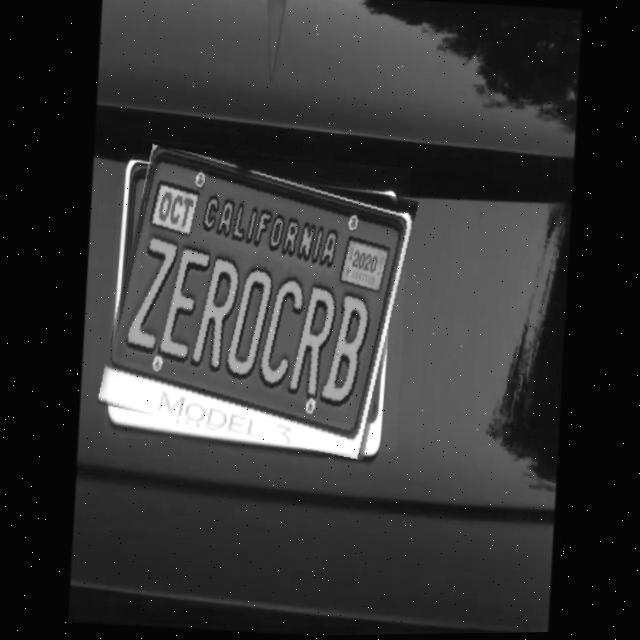LicensePlate: (99, 149, 414, 457)
